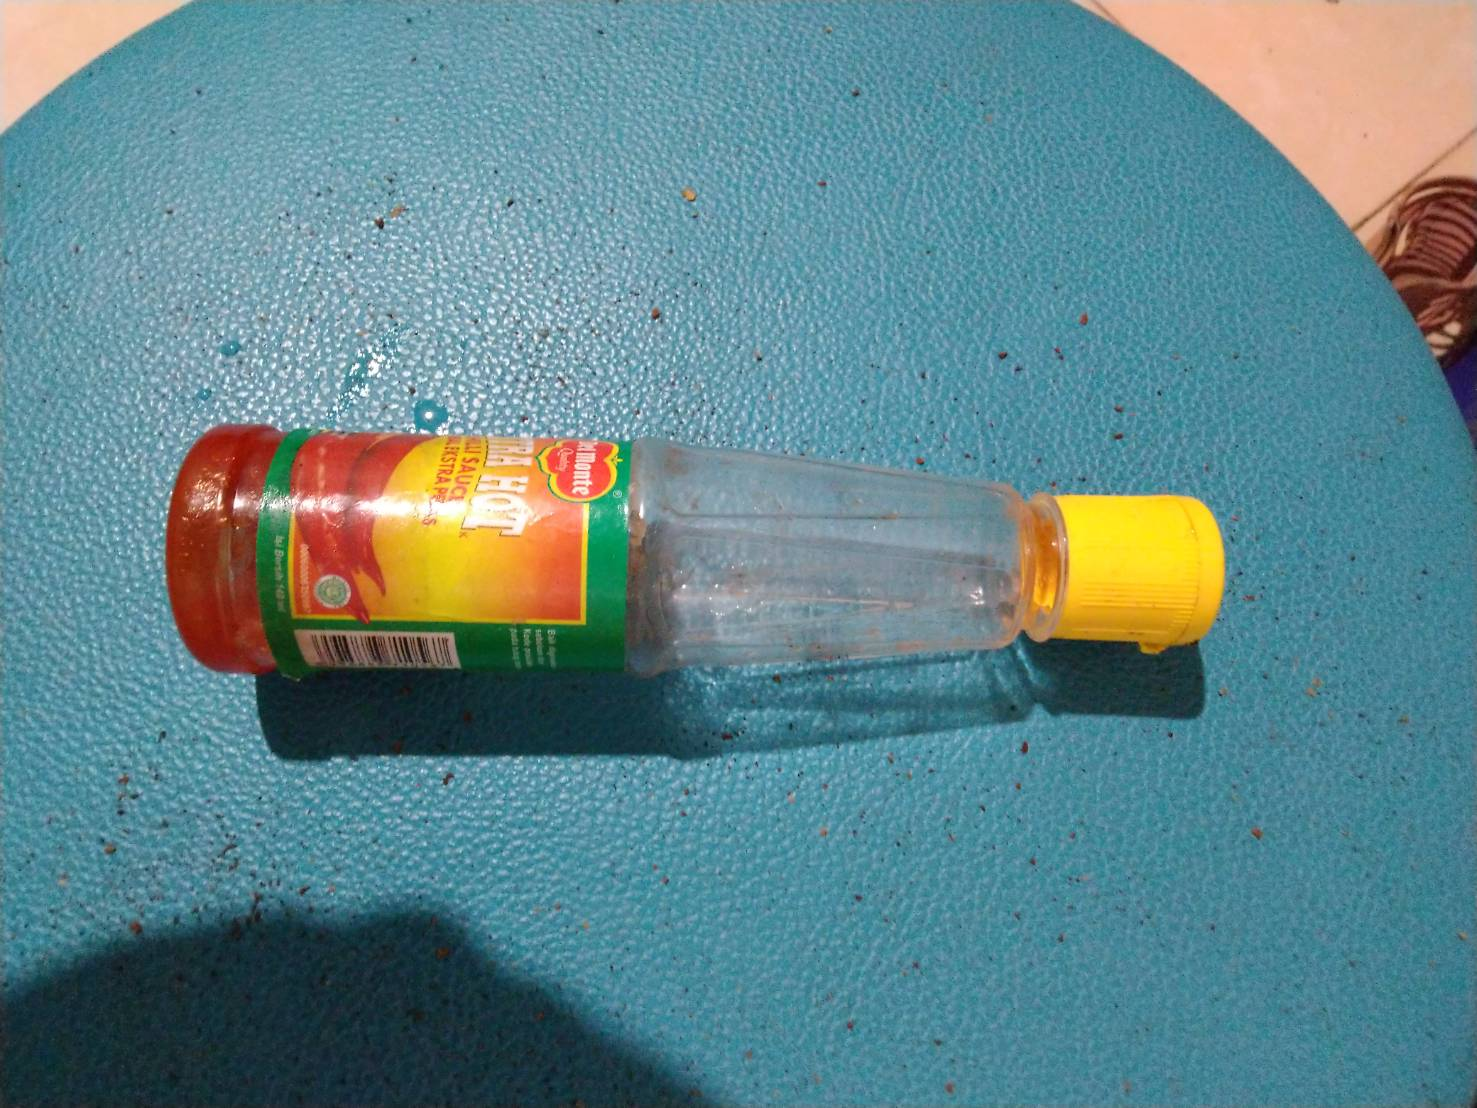HDPE: (1045, 493, 1226, 647)
PET: (170, 427, 1035, 675)
